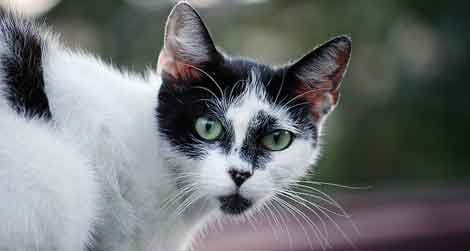Cat: (1, 2, 363, 251)
